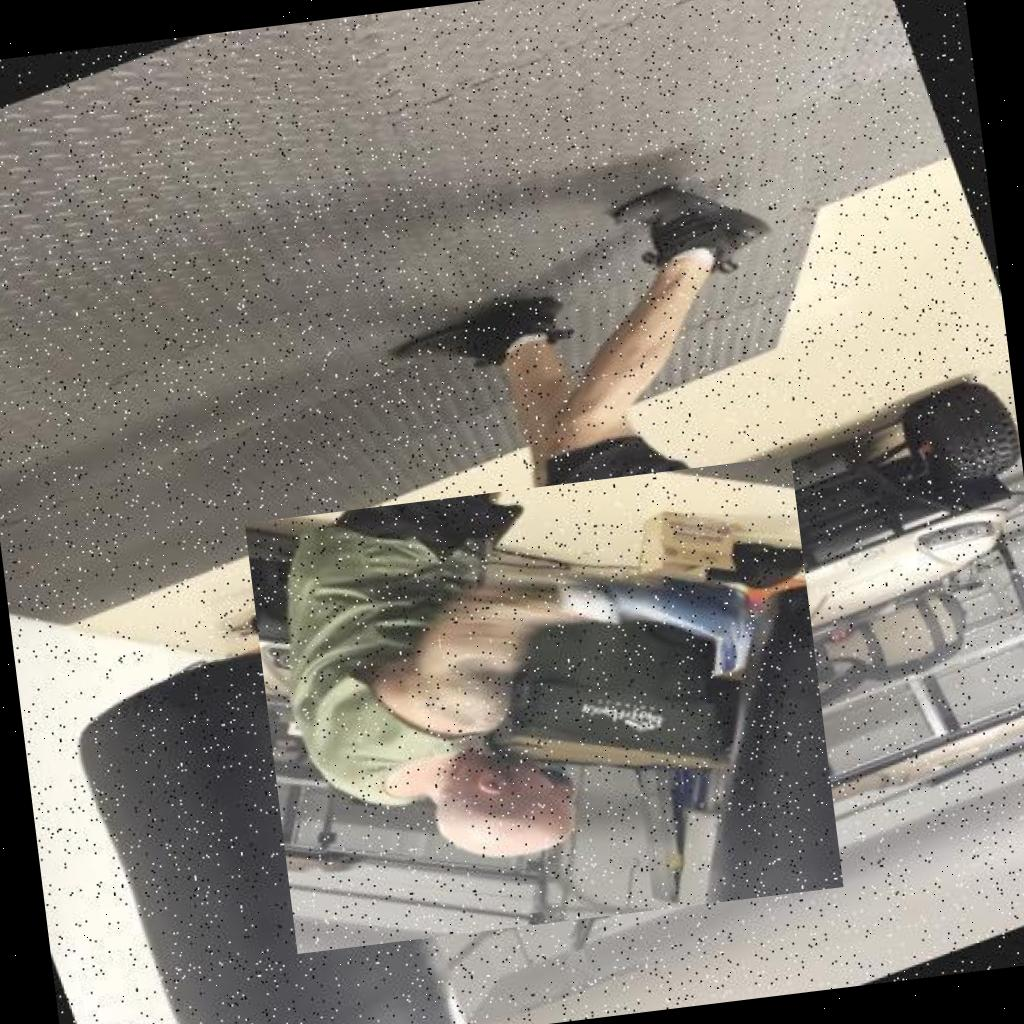bag: (13, 595, 500, 1024)
uppercut: (244, 456, 843, 954)
